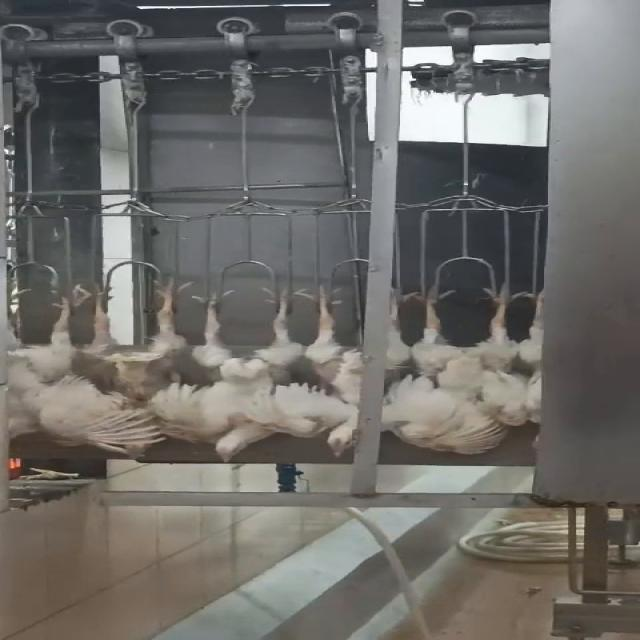chicken: (0, 276, 159, 464), (379, 273, 528, 449), (164, 280, 304, 460), (89, 269, 197, 408), (297, 278, 355, 458)
